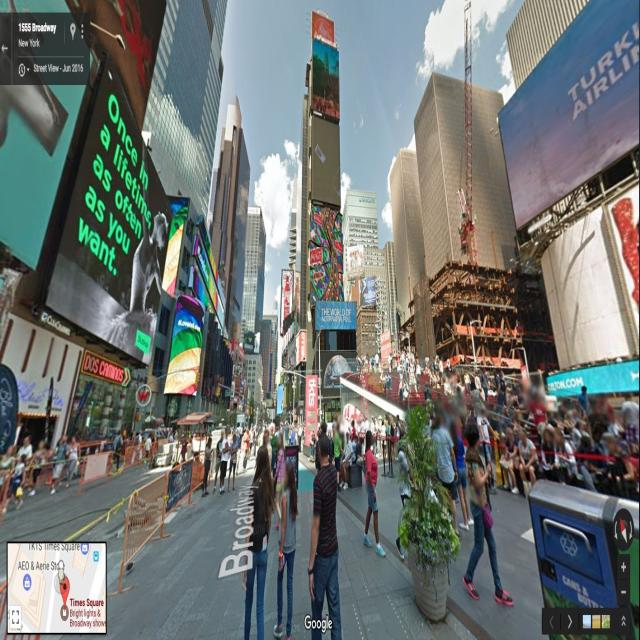body: (106, 134, 170, 359), (460, 417, 514, 608), (306, 432, 344, 639), (242, 443, 276, 639), (272, 460, 298, 639), (432, 413, 458, 538), (601, 428, 636, 519), (362, 428, 386, 558), (448, 420, 474, 532), (394, 429, 415, 560), (564, 424, 600, 499), (514, 384, 556, 441), (476, 404, 501, 485), (552, 426, 577, 497), (274, 432, 288, 531), (517, 426, 540, 485), (587, 398, 609, 458), (27, 437, 48, 498), (504, 423, 521, 497), (50, 431, 69, 495), (156, 421, 214, 440), (540, 428, 559, 484), (64, 432, 82, 489), (6, 453, 27, 499), (314, 421, 332, 472), (0, 443, 16, 500), (220, 424, 232, 496), (212, 429, 225, 494), (620, 391, 640, 433), (498, 428, 511, 491), (200, 436, 213, 498), (339, 428, 352, 489), (416, 400, 436, 439), (333, 421, 343, 492), (266, 420, 276, 490), (51, 436, 65, 485), (492, 367, 506, 414), (110, 428, 124, 472), (228, 432, 238, 492), (506, 372, 520, 414), (15, 432, 32, 466), (407, 355, 419, 400), (444, 368, 462, 398), (560, 396, 577, 427), (218, 415, 255, 428), (577, 385, 592, 416), (263, 428, 273, 468), (131, 429, 142, 465), (388, 413, 396, 462), (394, 344, 418, 360), (497, 369, 507, 407), (242, 425, 252, 463), (357, 436, 366, 477), (235, 425, 242, 476), (143, 431, 153, 463), (480, 366, 489, 401), (377, 414, 384, 458), (386, 418, 393, 461), (399, 419, 406, 461), (474, 366, 483, 398), (422, 382, 434, 406), (414, 357, 422, 391), (373, 415, 380, 453), (364, 415, 371, 453), (251, 423, 258, 458), (354, 417, 361, 452), (464, 368, 472, 396), (288, 420, 296, 448), (370, 415, 376, 451), (360, 415, 366, 451), (395, 414, 402, 444), (396, 360, 404, 385), (438, 354, 444, 386), (398, 378, 406, 402), (150, 430, 156, 462), (254, 414, 266, 430), (309, 427, 315, 459), (248, 423, 253, 461), (354, 350, 362, 373), (316, 417, 325, 437), (349, 419, 356, 443), (296, 424, 302, 451), (259, 426, 266, 449), (384, 370, 392, 390), (186, 438, 193, 460), (402, 357, 408, 382), (446, 357, 452, 381), (379, 371, 386, 391), (279, 421, 284, 449), (433, 369, 440, 388), (429, 371, 436, 390), (431, 354, 437, 376), (387, 351, 393, 373), (380, 418, 387, 436), (284, 421, 290, 442), (374, 350, 380, 370), (360, 351, 366, 370), (424, 362, 432, 376), (302, 419, 306, 446), (383, 414, 389, 428), (274, 424, 279, 440), (370, 353, 374, 372), (366, 354, 370, 373), (354, 434, 358, 445)
